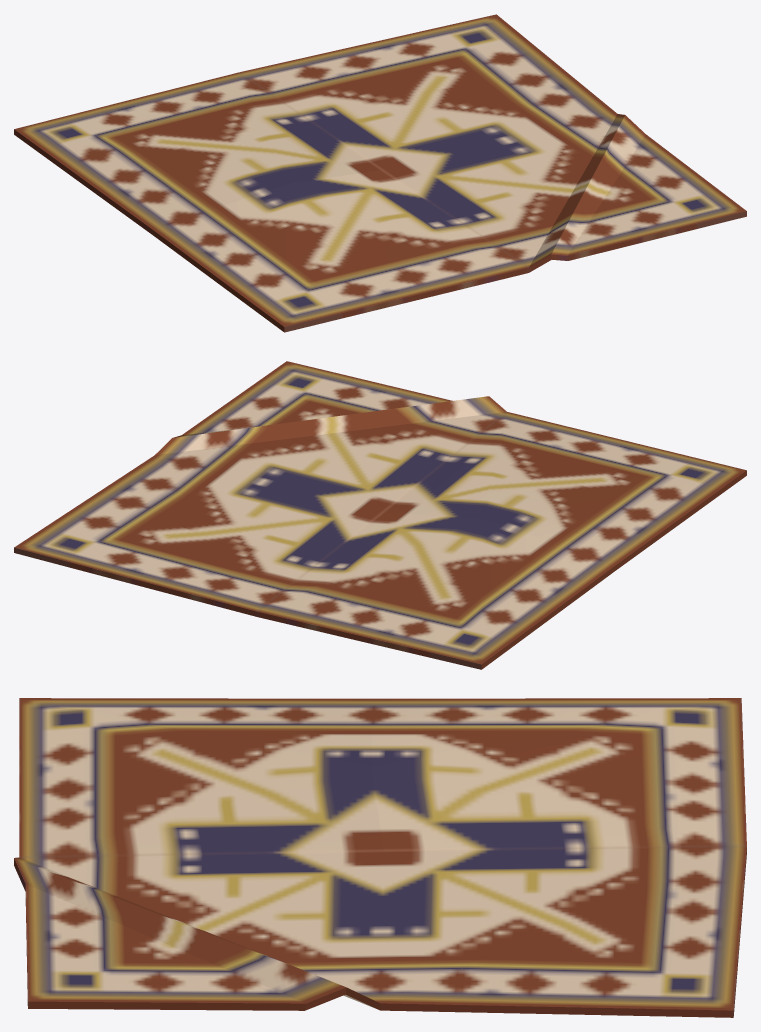
File: SM_Prop_Rug_13.fbx
3 views of the same model, one above another, from view 1: azimuth 30°, elevation 25°; view 2: azimuth 150°, elevation 25°; view 3: azimuth 270°, elevation 25° (orthographic). The views are drawn at different scales.
Parts seen in each view (by area): view 1: SM_Prop_Rug_13; view 2: SM_Prop_Rug_13; view 3: SM_Prop_Rug_13.
Part boxes in pixels (left/top/right/bottom): SM_Prop_Rug_13: left=14, top=14, right=746, bottom=332; SM_Prop_Rug_13: left=14, top=361, right=746, bottom=669; SM_Prop_Rug_13: left=14, top=698, right=746, bottom=1017.
Bounding box in the file's own units: 309 × 11.99 × 306.
